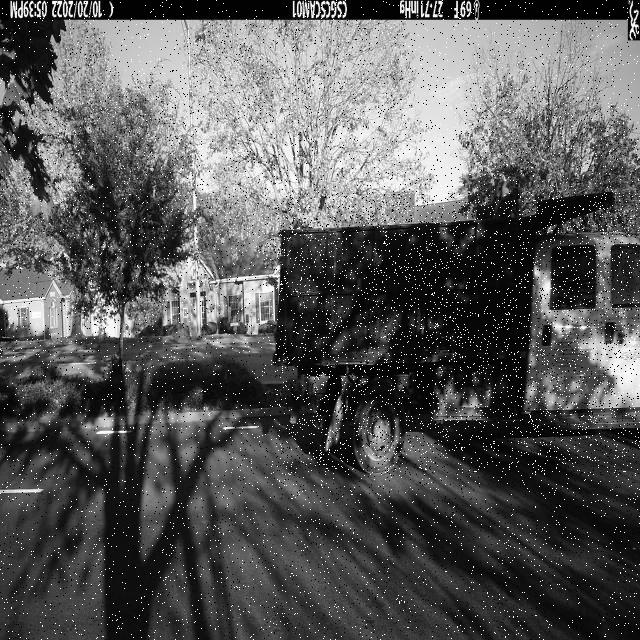Pickup- Utility: (274, 193, 640, 475)
